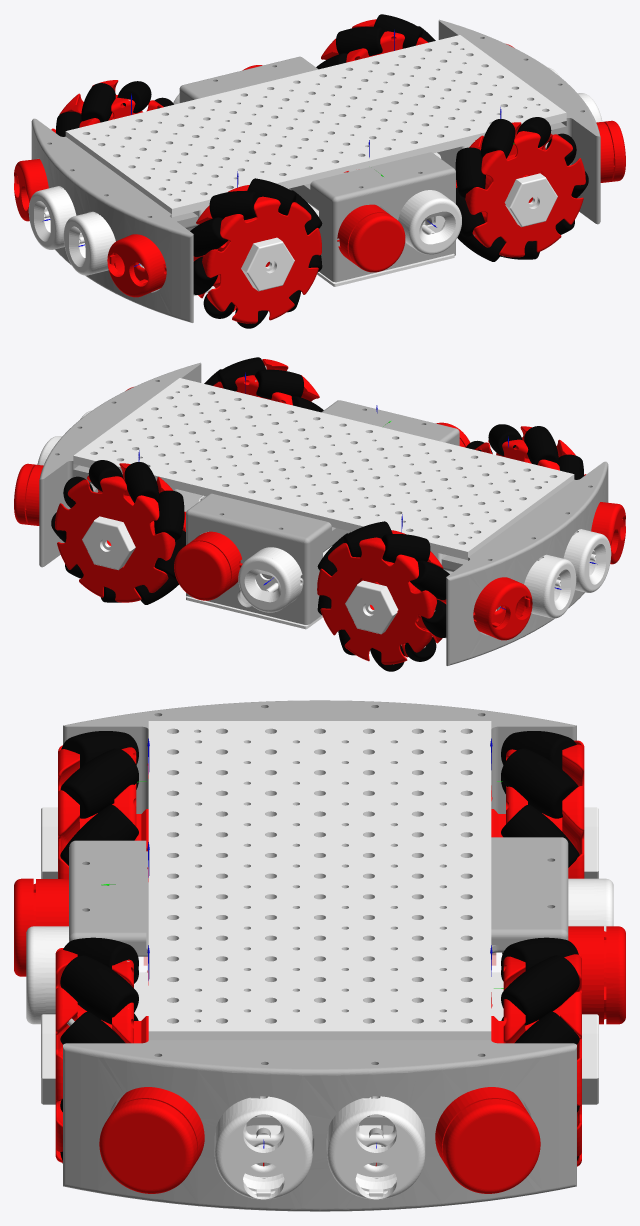
Rendered from mobilerobot.glb.
3 views of the same model, one above another, from view 1: azimuth 30°, elevation 25°; view 2: azimuth 150°, elevation 25°; view 3: azimuth 270°, elevation 25° (orthographic). The views are drawn at different scales.
Parts seen in each view (by area): view 1: CenterPlate Alu, sbFront (×2), rimm-outerr (×2), Top (×7), sbCenter, Base (×7), Wheel-Hub-Cup (×2), Roller_copy6 (×4), Roller_copy5 (×4), sb_center_cont, rimm-inner (×4), Roller_copy7 (×2) (+4 smaller); view 2: CenterPlate Alu, sbFront (×2), rimm-outerr (×3), Top (×7), sb_center_cont, Base (×6), Wheel-Hub-Cup (×2), Roller_copy5 (×4), Roller_copy6 (×4), rimm-inner (×4), sbCenter, Roller_copy4 (×2) (+4 smaller); view 3: CenterPlate Alu, sbFront (×2), Top (×8), Base (×8), Roller_copy5 (×4), Roller_copy6 (×4), rimm-outerr (×4), sb_center_cont, sbCenter, Wheel-Hub-Cup (×4), rimm-inner (×3), Roller_copy4 (×2) (+2 smaller).
Part boxes in pixels (<box>): CenterPlate Alu: <box>65,35,566,216</box>; sbFront (×2): <box>31,19,600,322</box>; rimm-outerr (×2): <box>202,131,585,323</box>; Top (×7): <box>14,120,625,297</box>; sbCenter: <box>289,152,455,282</box>; Base (×7): <box>16,122,613,294</box>; Wheel-Hub-Cup (×2): <box>241,173,557,291</box>; Roller_copy6 (×4): <box>117,14,515,220</box>; Roller_copy5 (×4): <box>81,26,551,215</box>; sb_center_cont: <box>179,56,318,102</box>; rimm-inner (×4): <box>79,31,569,311</box>; Roller_copy7 (×2): <box>190,147,485,256</box>; CenterPlate Alu: <box>73,378,574,559</box>; sbFront (×2): <box>39,362,608,665</box>; rimm-outerr (×3): <box>55,359,436,664</box>; Top (×7): <box>14,463,625,640</box>; sb_center_cont: <box>186,493,350,624</box>; Base (×6): <box>26,464,596,635</box>; Wheel-Hub-Cup (×2): <box>82,516,398,634</box>; Roller_copy5 (×4): <box>124,357,522,562</box>; Roller_copy6 (×4): <box>88,369,558,557</box>; rimm-inner (×4): <box>87,375,559,657</box>; sbCenter: <box>321,400,459,445</box>; Roller_copy4 (×2): <box>154,490,449,599</box>; CenterPlate Alu: <box>148,721,491,1040</box>; sbFront (×2): <box>63,700,576,1211</box>; Top (×8): <box>14,878,625,1199</box>; Base (×8): <box>33,878,606,1196</box>; Roller_copy5 (×4): <box>60,731,578,1024</box>; Roller_copy6 (×4): <box>61,731,579,1025</box>; rimm-outerr (×4): <box>55,740,584,1166</box>; sb_center_cont: <box>491,837,568,953</box>; sbCenter: <box>69,840,148,956</box>; Wheel-Hub-Cup (×4): <box>41,807,598,1104</box>; rimm-inner (×3): <box>90,747,538,1043</box>; Roller_copy4 (×2): <box>60,804,138,1044</box>.
Size of the model in its own units: 390 by 102 by 250.
